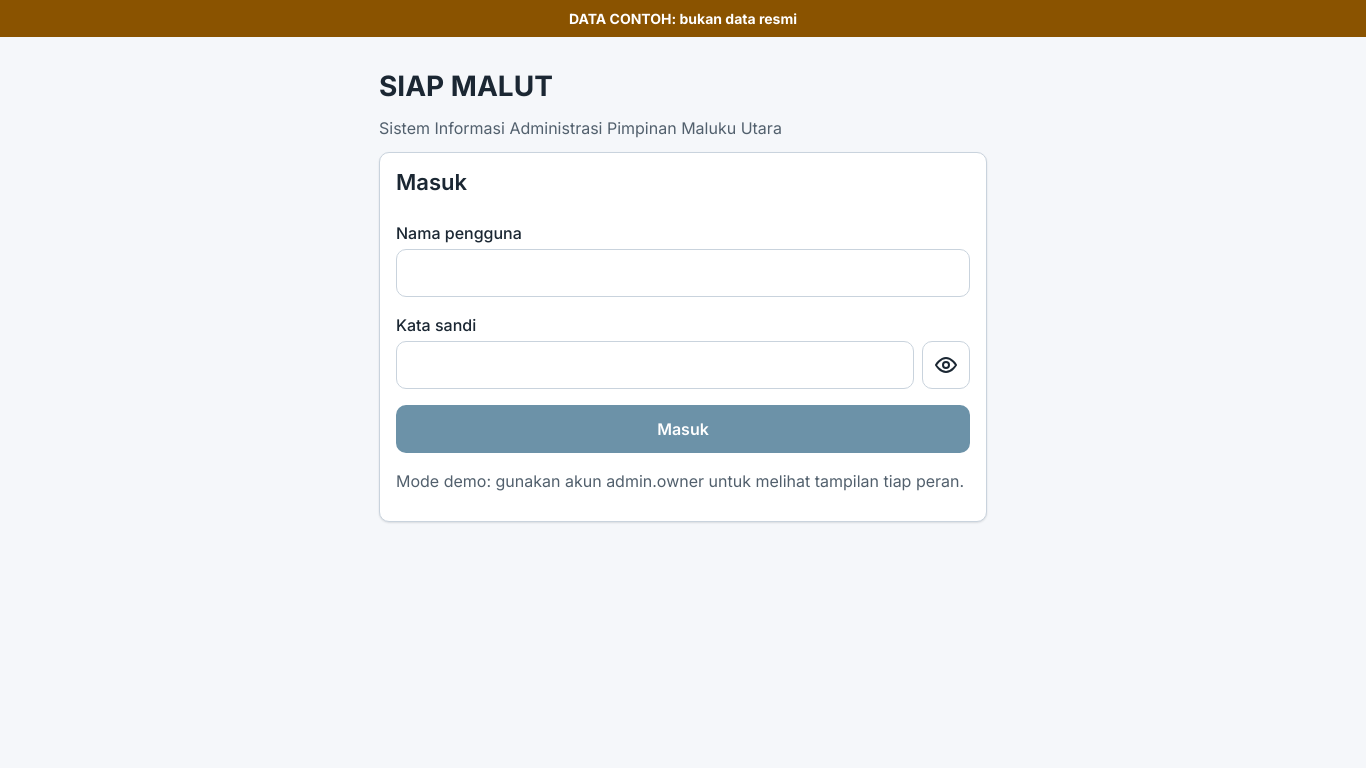
Test case: KB-033 dan KB-007: masuk dan spanduk DATA CONTOH › KB-007: galat 401 saat masuk menampilkan pesan, bukan layar kosong
In the field labelled "Nama pengguna": (683, 272) [396,248,970,296], type "x"
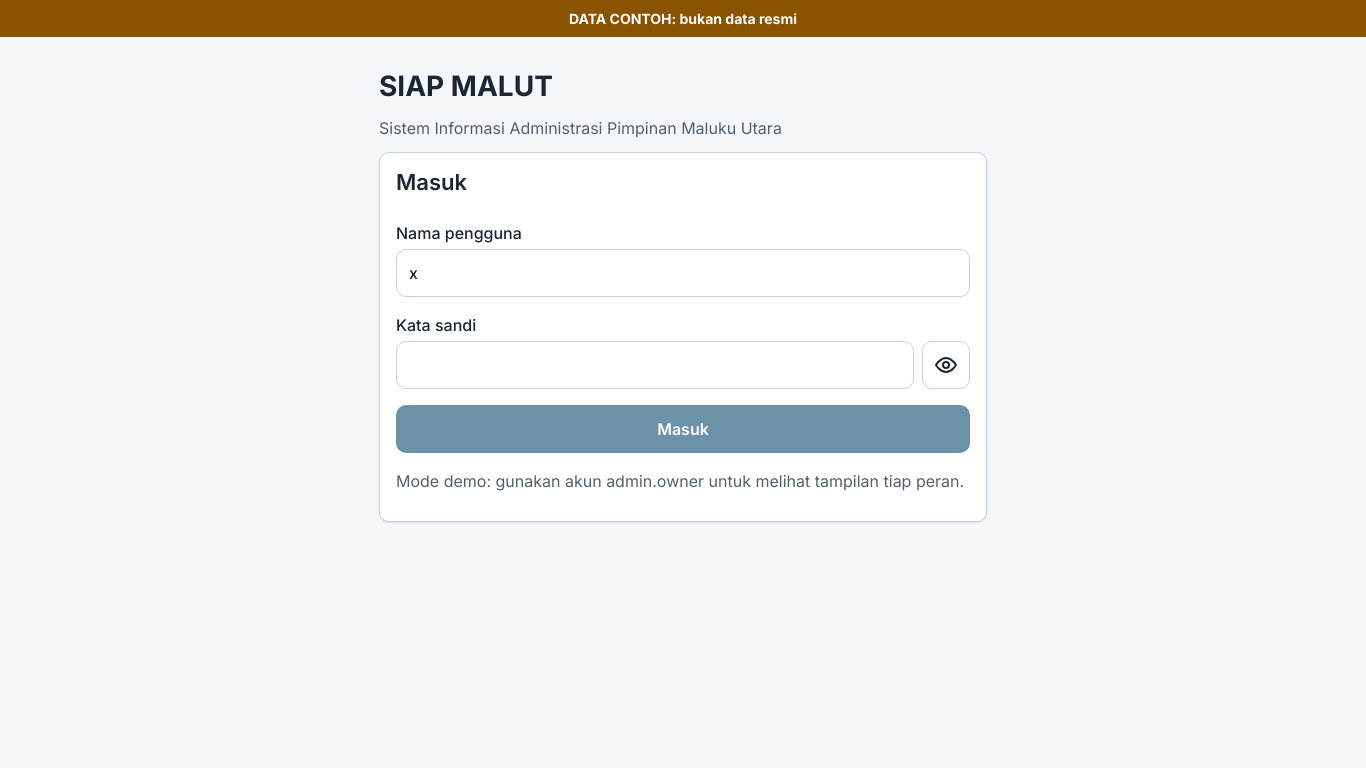
In the password field labelled "Kata sandi": (655, 364) [396,340,914,388], type "y"
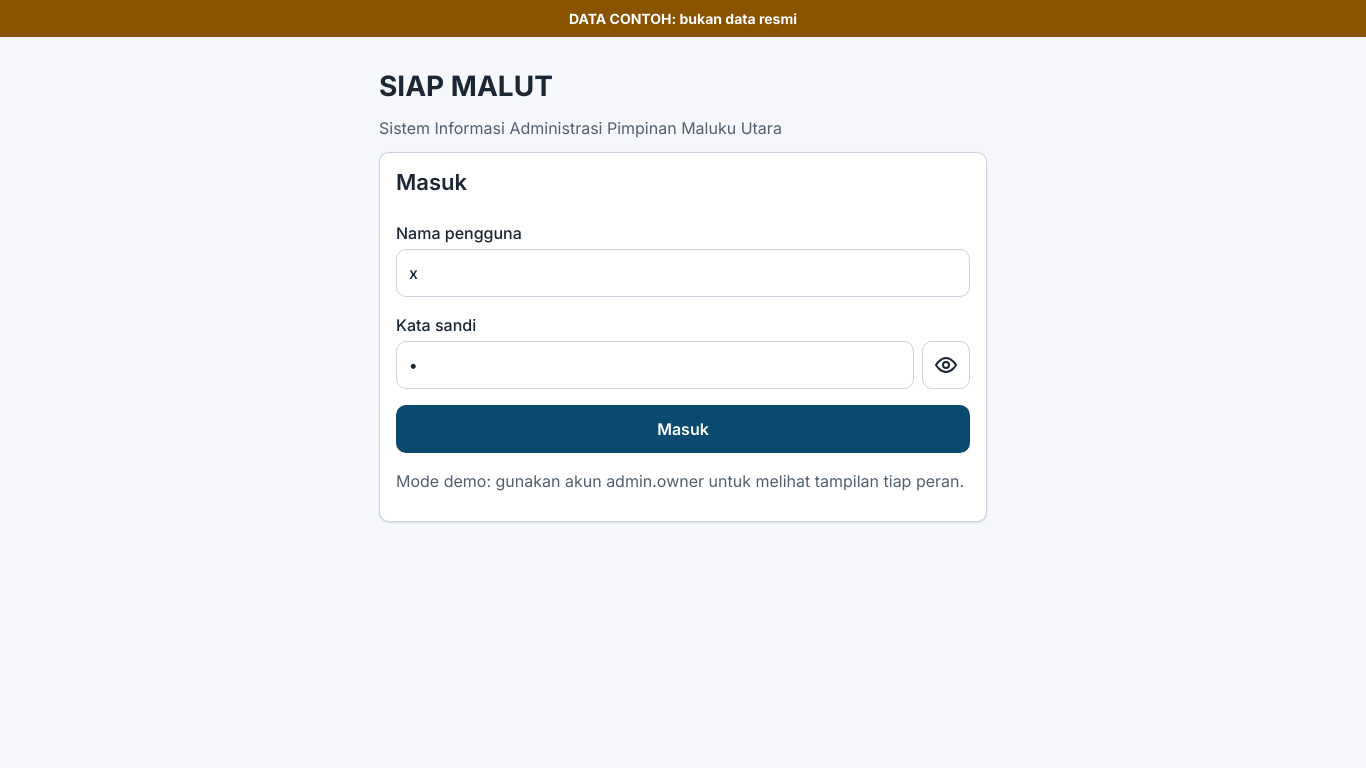
Click the button "Masuk": click(683, 428) [396,404,970,452]
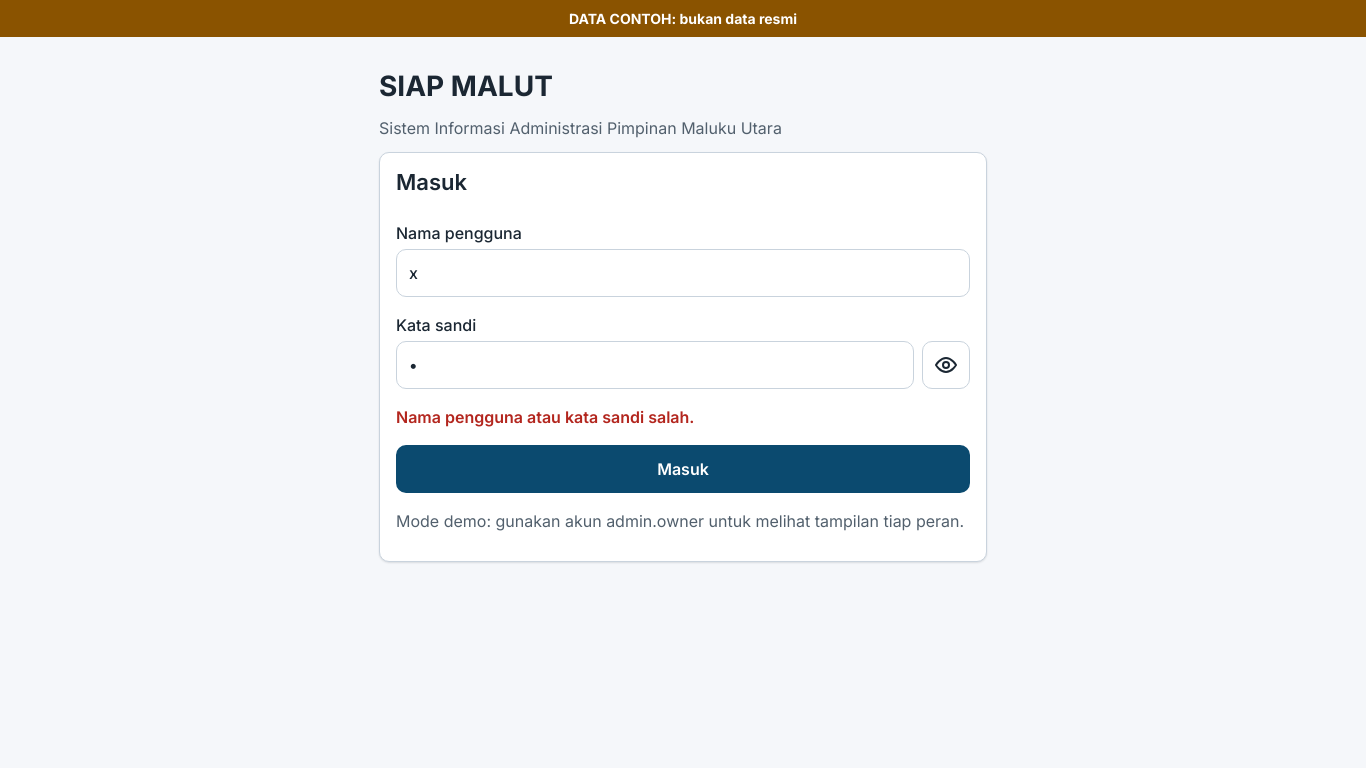
Result: the message "Nama pengguna atau kata sandi salah." is shown at [396,406,694,426]
